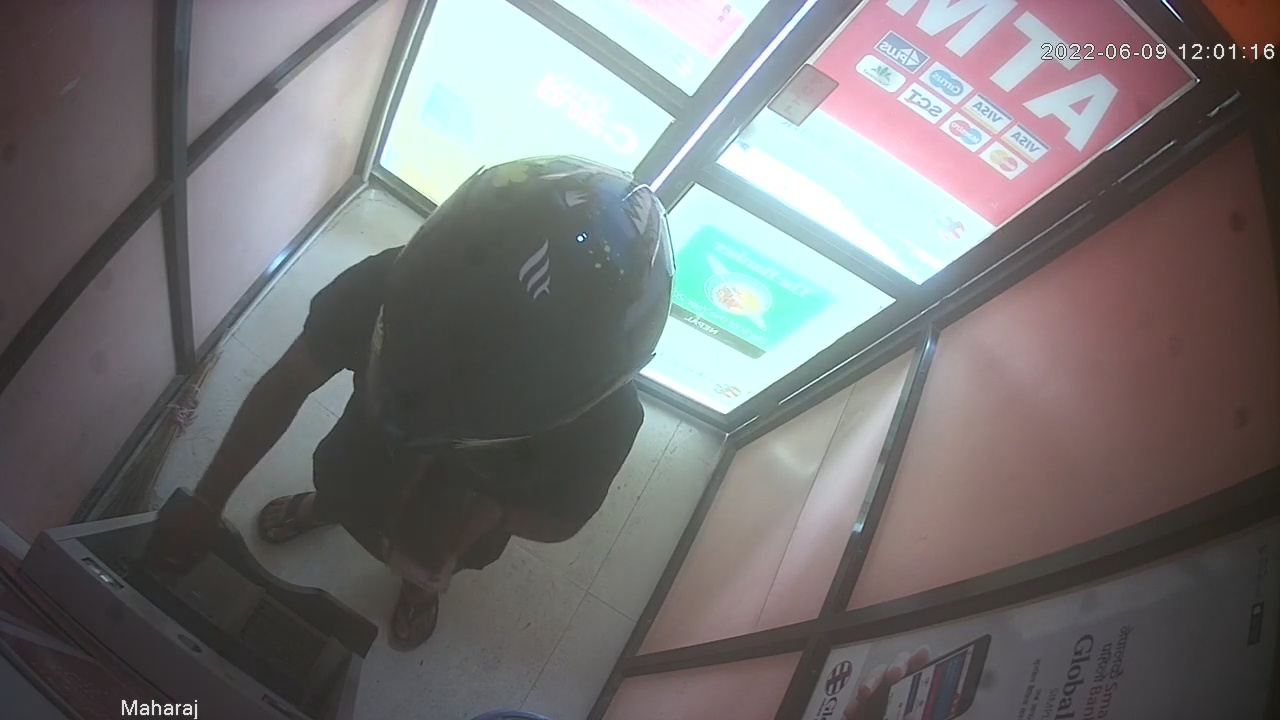helmet: (362, 154, 671, 456)
person: (144, 152, 675, 652)
